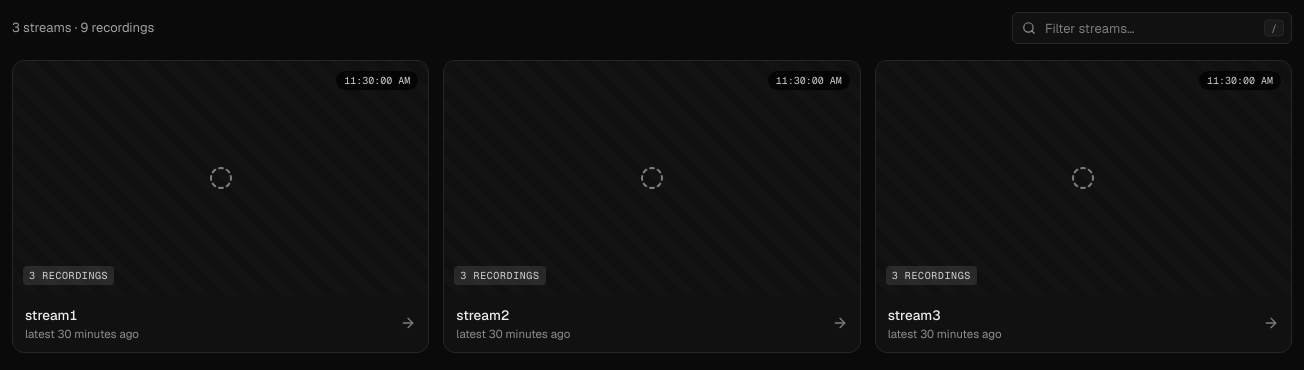
Test: the / shortcut › types a literal / once the filter already has focus
The image size is (1304, 370).
Click the search field labelled "Filter streams" at (1152, 28), box left=1012, top=12, right=1292, bottom=44
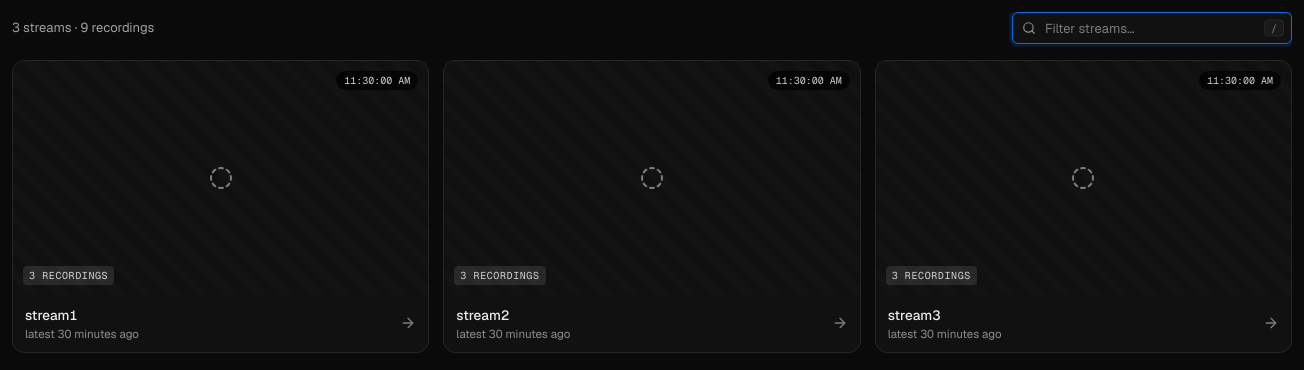
Type keys "/"
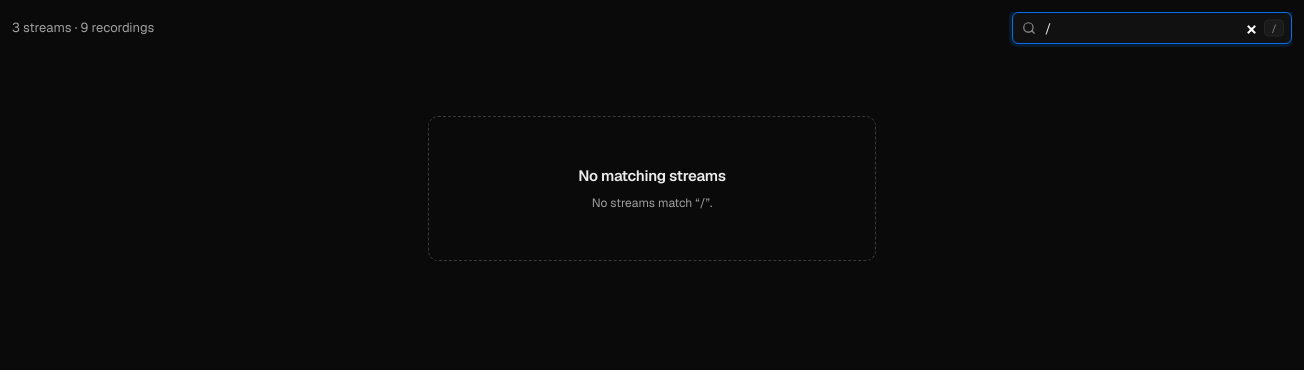
Check: the search field named "Filter streams" holds "/", box left=1012, top=12, right=1292, bottom=44
